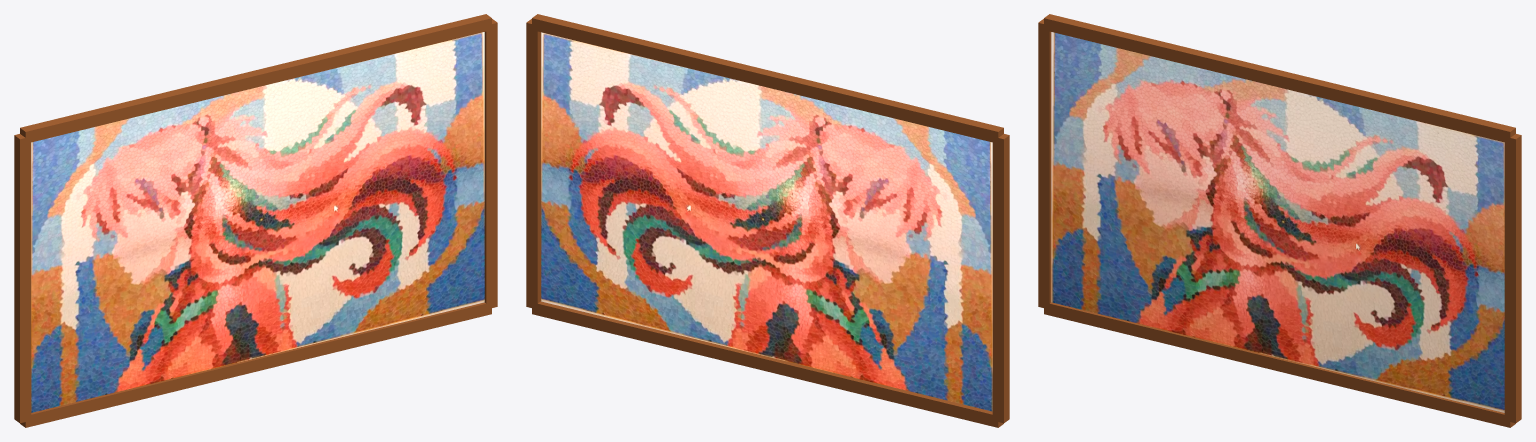
Rendered from stained-glass-window.glb.
The picture shows the model from 3 angles, left to right: view 1: azimuth 30°, elevation 25°; view 2: azimuth 150°, elevation 25°; view 3: azimuth 330°, elevation 25°; orthographic projection.
Visible parts, largest first — view 1: Stained_Glass_Panel, Frame_Top, Frame_Bottom, Frame_Left, Frame_Right; view 2: Cathedral transmitted color core, Frame_Top, Frame_Bottom, Frame_Left, Frame_Right; view 3: Stained_Glass_Panel, Frame_Top, Frame_Bottom, Frame_Right, Frame_Left.
Part boxes in pixels (box(x1,y1,x2,y2)): Stained_Glass_Panel: box(31, 32, 484, 412); Frame_Top: box(20, 14, 491, 143); Frame_Bottom: box(20, 302, 491, 427); Frame_Left: box(14, 134, 31, 423); Frame_Right: box(484, 19, 497, 307); Cathedral transmitted color core: box(541, 32, 992, 411); Frame_Top: box(532, 14, 1003, 143); Frame_Bottom: box(532, 301, 1003, 427); Frame_Left: box(992, 134, 1009, 423); Frame_Right: box(526, 19, 541, 307); Stained_Glass_Panel: box(1051, 32, 1504, 412); Frame_Top: box(1044, 14, 1515, 143); Frame_Bottom: box(1044, 302, 1515, 427); Frame_Right: box(1504, 134, 1521, 423); Frame_Left: box(1038, 19, 1051, 307).
Size of the model in its own units: 6.3 by 3.73 by 0.13.
3 materials, 2 textured.
